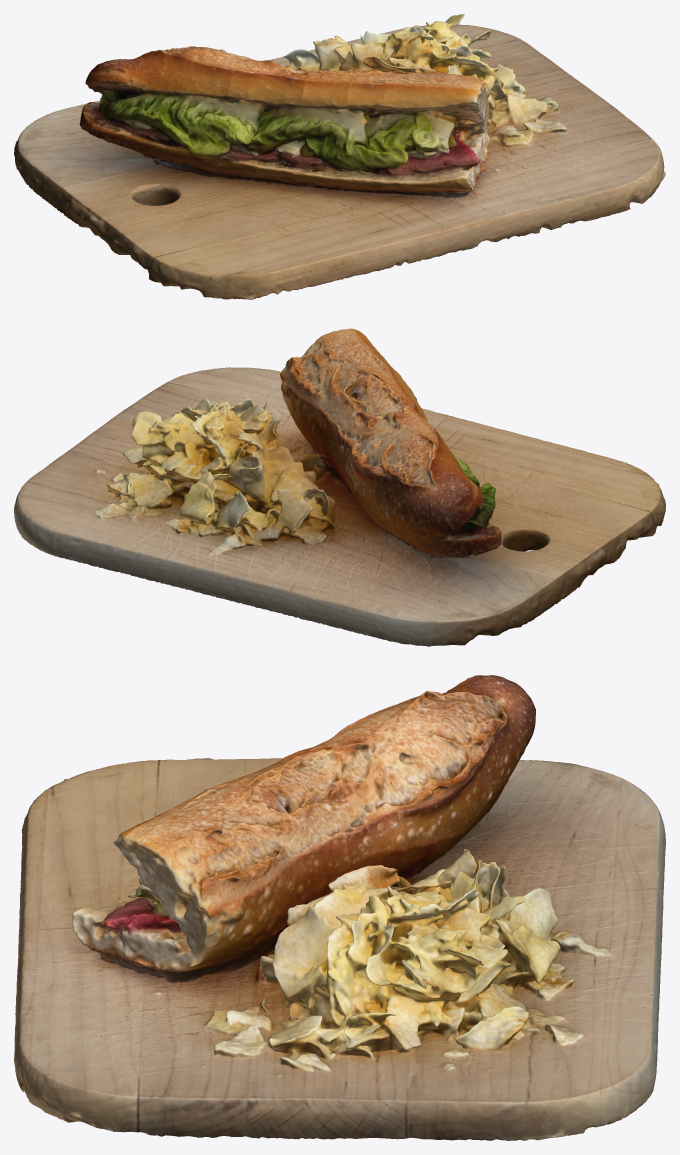
Rendered from sandwich.glb.
3 views of the same model, one above another, from view 1: azimuth 30°, elevation 25°; view 2: azimuth 150°, elevation 25°; view 3: azimuth 270°, elevation 25° (orthographic). The views are drawn at different scales.
Visible parts, largest first — view 1: model; view 2: model; view 3: model.
Boxes of the visible parts, x1,y1,x2,y2 form: model: (14,14,665,299); model: (14,328,665,646); model: (14,675,665,1140).
Size of the model in its own units: 0.2922 by 0.0726 by 0.2255.
Materials: 1 (1 with a texture image).
